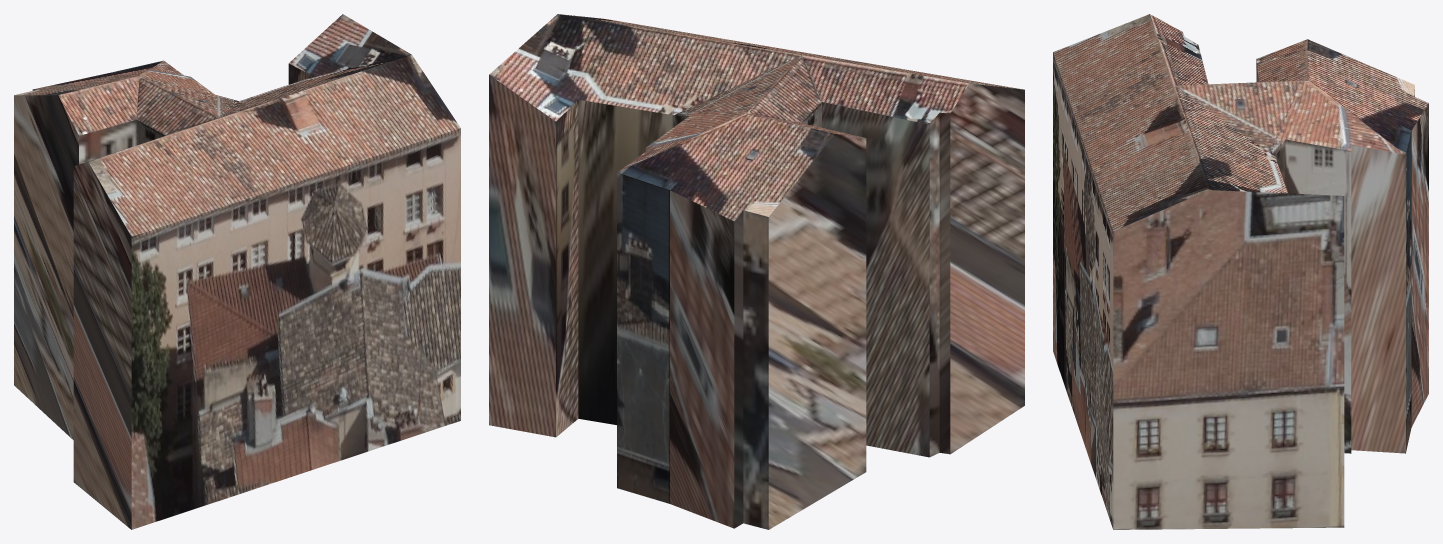
3 views of the same model, side by side, from view 1: azimuth 30°, elevation 25°; view 2: azimuth 150°, elevation 25°; view 3: azimuth 270°, elevation 25° (orthographic). The views are drawn at different scales.
Visible parts, largest first — view 1: Z_UP; view 2: Z_UP; view 3: Z_UP.
Part boxes in pixels (left/top/right/bottom): Z_UP: left=14, top=14, right=460, bottom=529; Z_UP: left=489, top=14, right=1024, bottom=529; Z_UP: left=1053, top=14, right=1428, bottom=529.
Bounding box in the file's own units: 23.58 × 20.88 × 20.96.
Materials: 2 (1 with a texture image).
